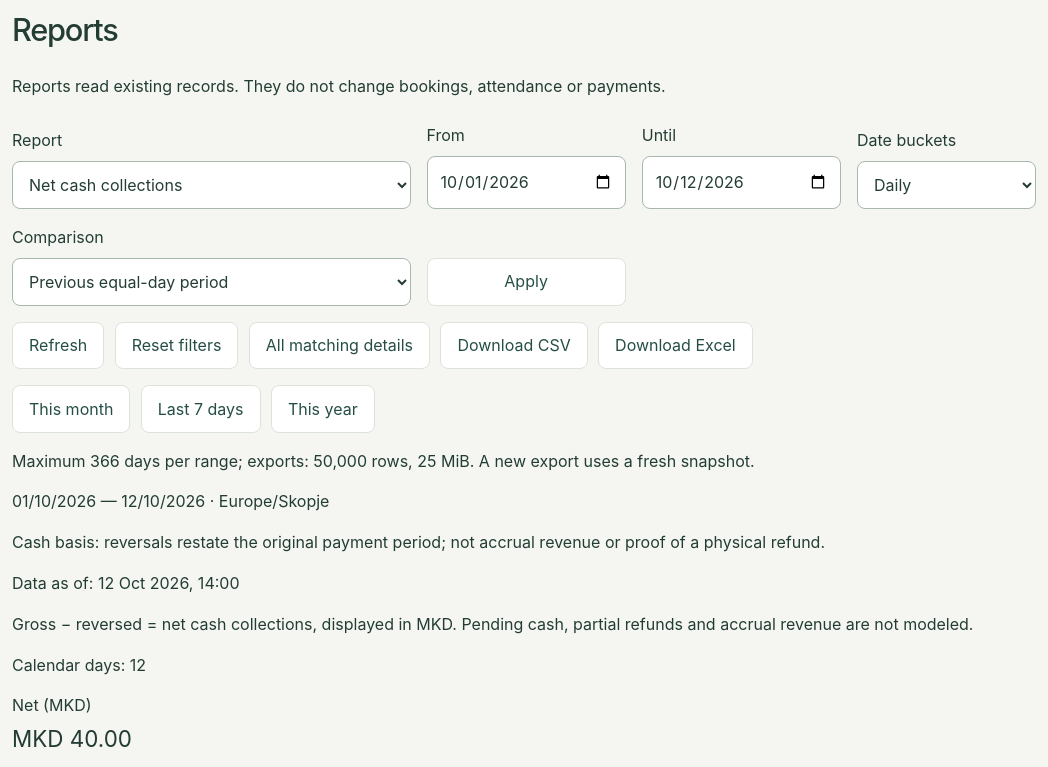
Test: download failure stays visible and allows a retry
Expected: the text "Europe/Skopje" is shown, [219,492,329,512]
Click the button "Download CSV" at (514, 345), box [440,322,588,369]
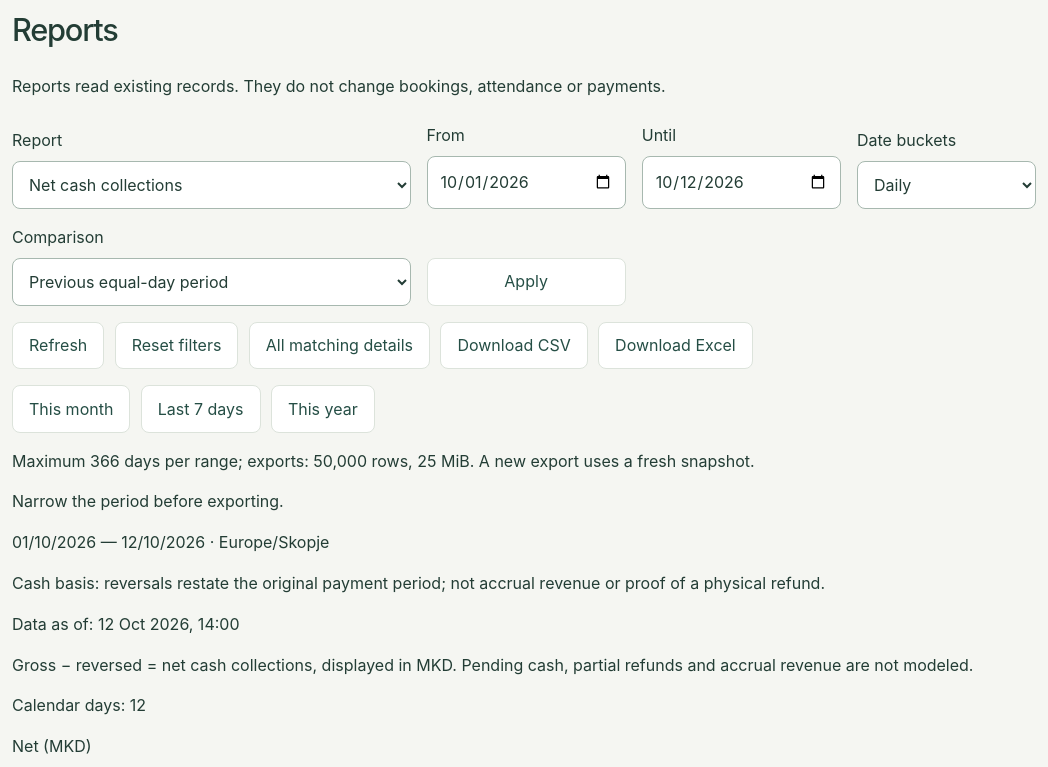
Result: the message reads "Narrow the period before exporting." at [12,492,284,512]
